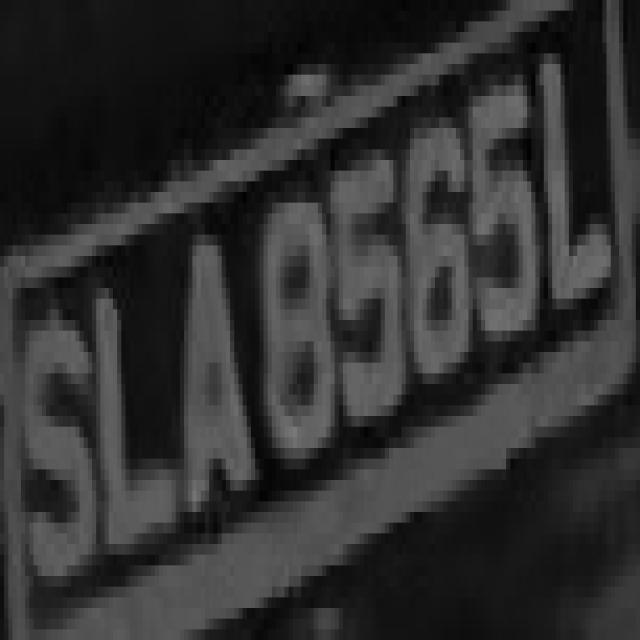5: (460, 42, 540, 394), (322, 139, 406, 437)
6: (385, 85, 468, 416)
8: (247, 192, 343, 501)
A: (151, 203, 251, 576)
L: (80, 245, 176, 576), (527, 0, 611, 331)
S: (13, 298, 96, 618)
